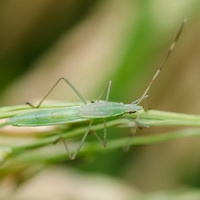insect: (5, 19, 185, 159), (6, 77, 141, 159), (37, 79, 84, 109)
